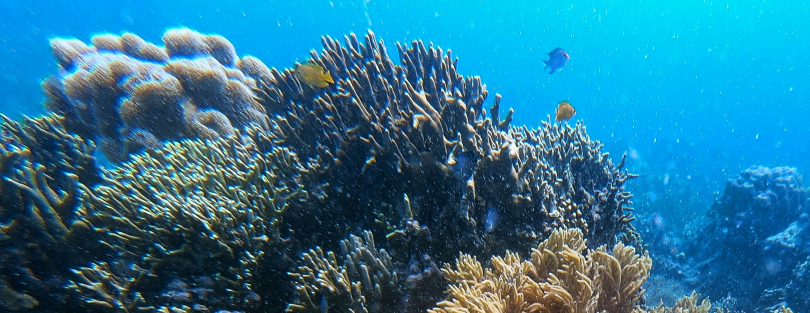fishRound: (292, 57, 334, 90), (541, 47, 570, 74), (554, 100, 576, 125)
